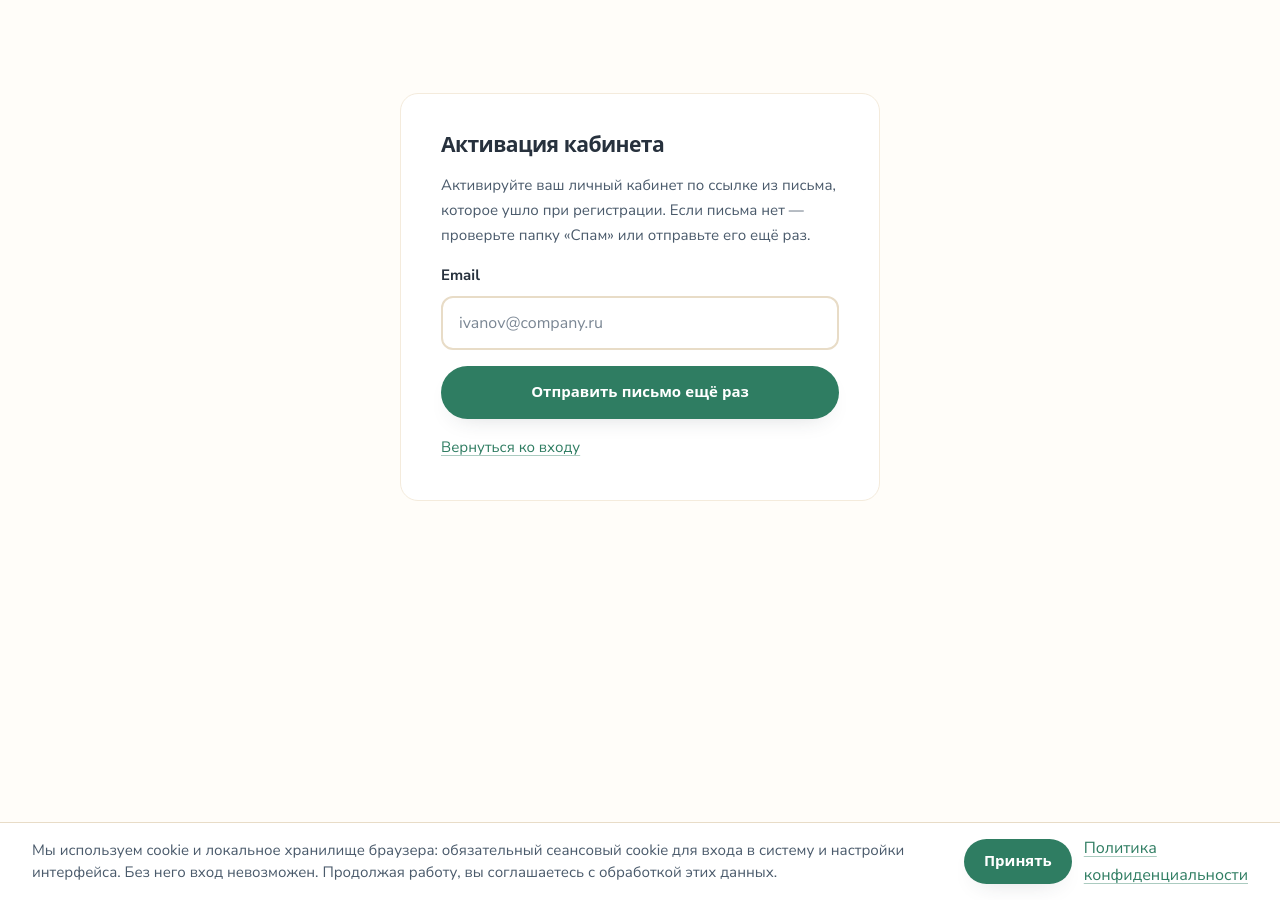
Scenario: экран активации без токена › просит email перед повторной отправкой
The image size is (1280, 900).
Step 1. Type "не-почта" into the field with test id "activate-resend-email" → point(640, 323), box top-left (441, 296), bottom-right (839, 350)
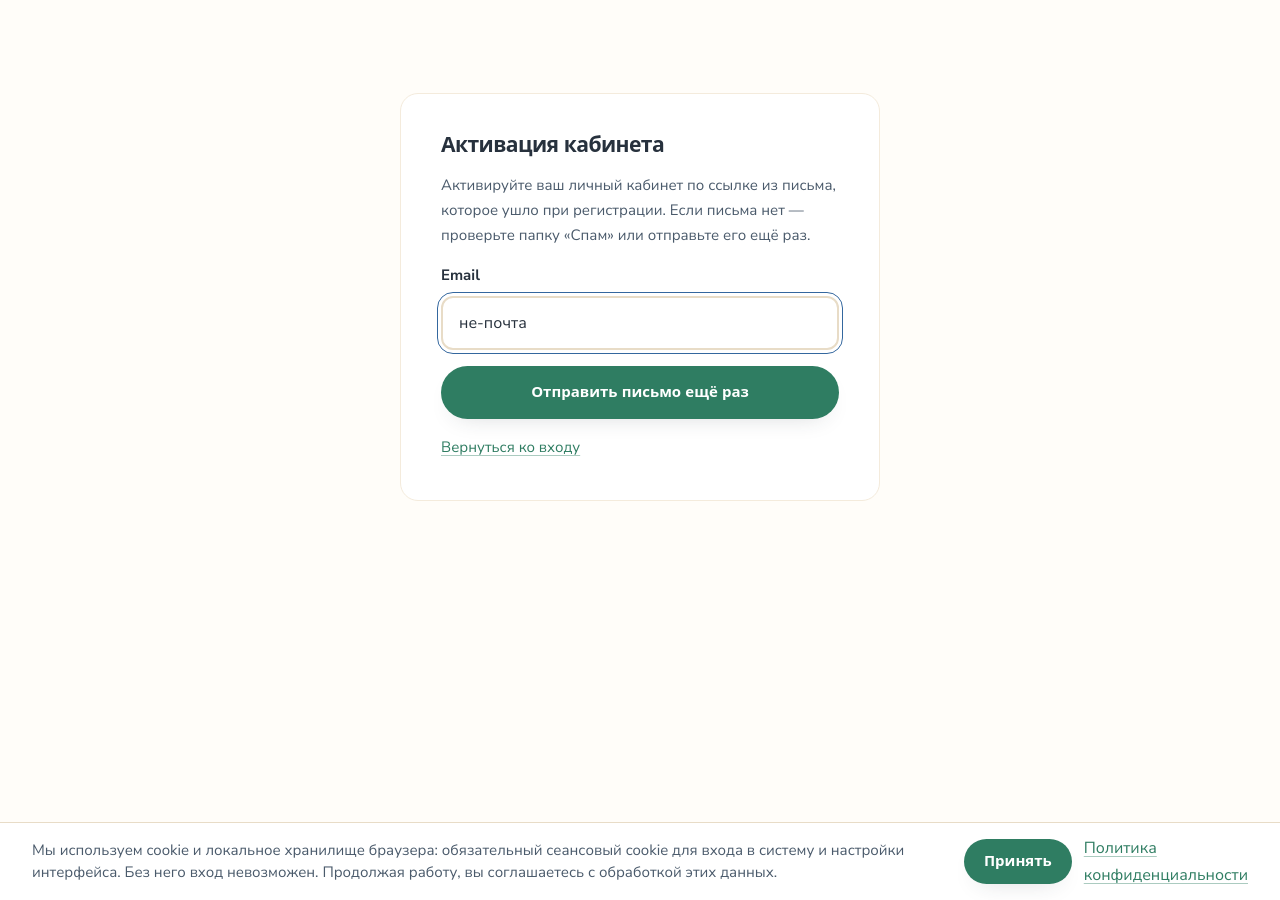
Step 2. Click the button with test id "resend-activation" → point(640, 393), box top-left (441, 366), bottom-right (839, 419)
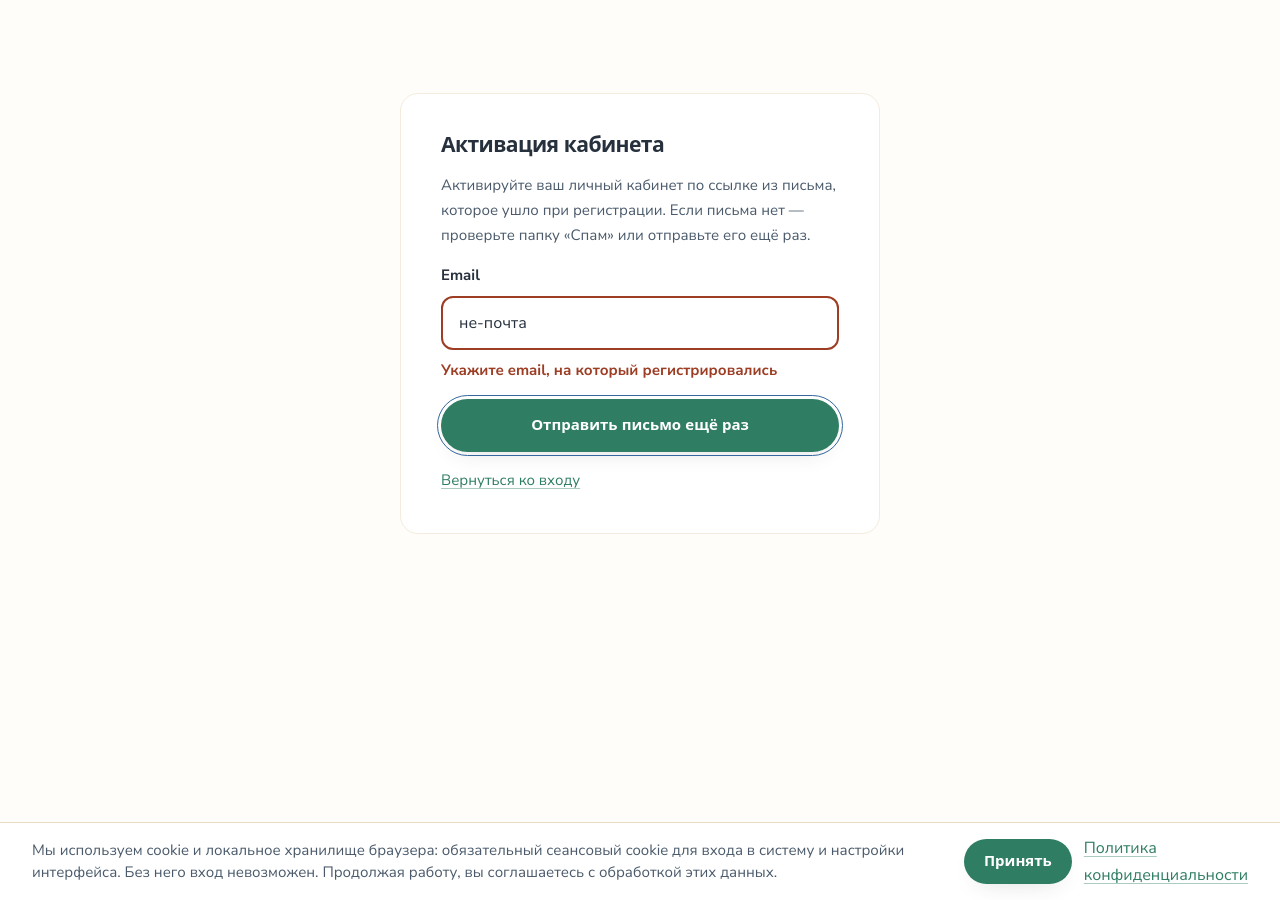
Check: the message with test id "activate-error" shows "Укажите email", box top-left (441, 360), bottom-right (777, 380)
